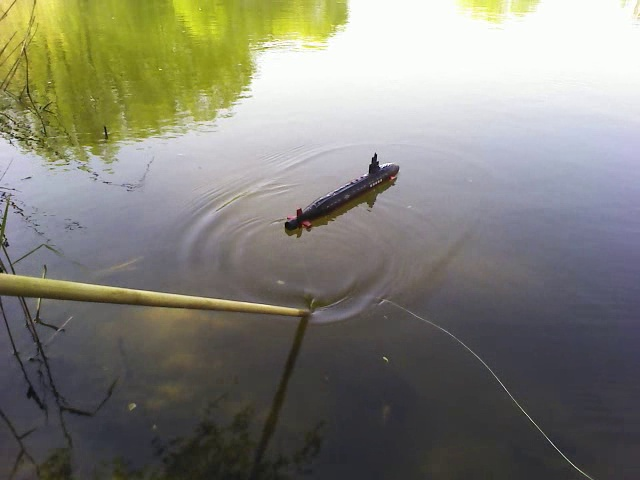submarine: (282, 149, 402, 238)
